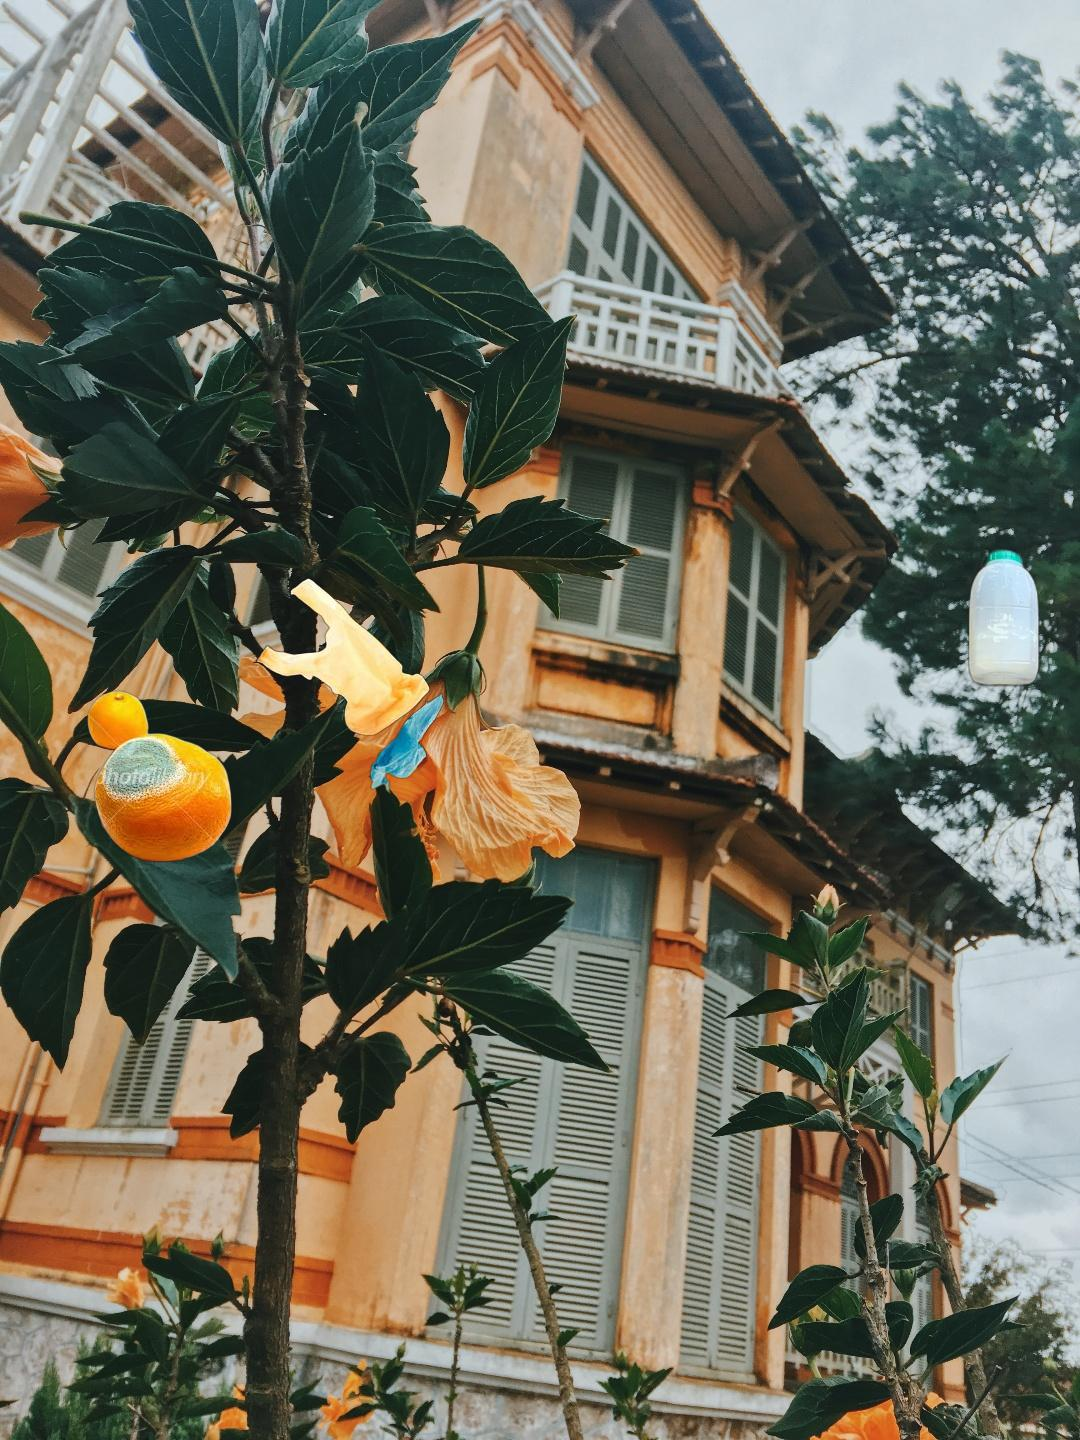biological: (85, 688, 234, 865)
plastic-bag: (253, 577, 445, 797)
plastic-bottles: (964, 543, 1044, 691)
trashbox-cardboard: (973, 835, 1080, 1264)
